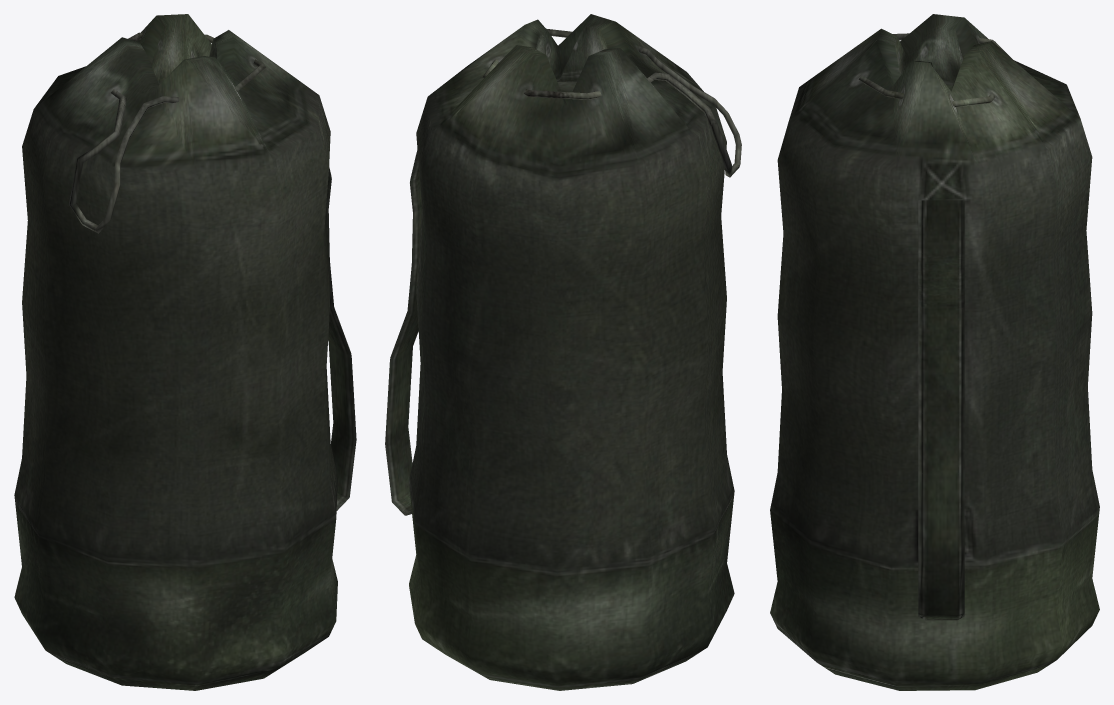
Rendered from boat_dufflebag.dae.
The picture shows the model from 3 angles, left to right: view 1: azimuth 30°, elevation 25°; view 2: azimuth 150°, elevation 25°; view 3: azimuth 270°, elevation 25°; orthographic projection.
Visible parts, largest first — view 1: dufflebag; view 2: dufflebag; view 3: dufflebag.
Part boxes in pixels (left/top/right/bottom): dufflebag: left=14, top=14, right=356, bottom=690; dufflebag: left=385, top=14, right=741, bottom=690; dufflebag: left=770, top=14, right=1099, bottom=690.
Size of what is drawn, in the model's own units: 0.3919 by 0.7289 by 0.3548.
